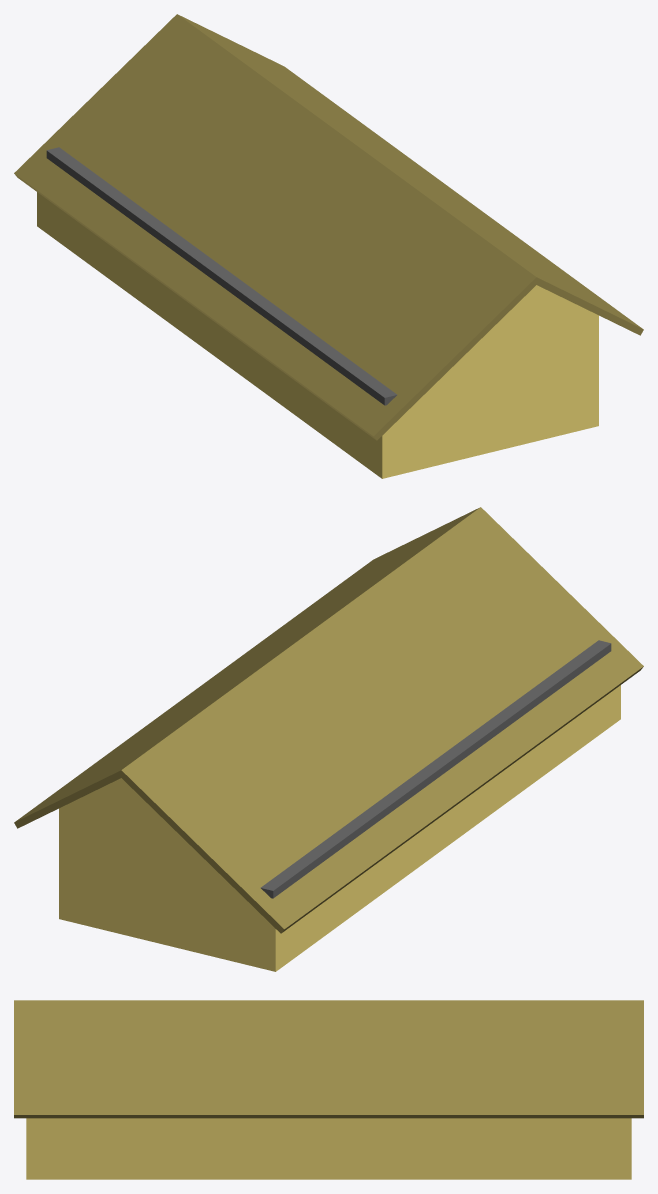
File: result.glb
3 views of the same model, one above another, from view 1: azimuth 30°, elevation 25°; view 2: azimuth 150°, elevation 25°; view 3: azimuth 270°, elevation 25° (orthographic). The views are drawn at different scales.
Parts seen in each view (by area): view 1: c98a8453-ba60-4f9a-aebd-362d2e6b7f4f__undefined (×2), 3eb5561a-a1e6-4eb3-b274-eed3a573eca8__undefined, ccccb688-0b59-463b-a2dd-bae00b7f3d5e__Box; view 2: c98a8453-ba60-4f9a-aebd-362d2e6b7f4f__undefined (×2), 3eb5561a-a1e6-4eb3-b274-eed3a573eca8__undefined, ccccb688-0b59-463b-a2dd-bae00b7f3d5e__Box; view 3: c98a8453-ba60-4f9a-aebd-362d2e6b7f4f__undefined, 3eb5561a-a1e6-4eb3-b274-eed3a573eca8__undefined.
Boxes of the visible parts, x1,y1,x2,y2 form: c98a8453-ba60-4f9a-aebd-362d2e6b7f4f__undefined (×2): [14, 14, 643, 440]; 3eb5561a-a1e6-4eb3-b274-eed3a573eca8__undefined: [37, 192, 598, 478]; ccccb688-0b59-463b-a2dd-bae00b7f3d5e__Box: [46, 147, 397, 405]; c98a8453-ba60-4f9a-aebd-362d2e6b7f4f__undefined (×2): [14, 507, 643, 933]; 3eb5561a-a1e6-4eb3-b274-eed3a573eca8__undefined: [59, 685, 620, 971]; ccccb688-0b59-463b-a2dd-bae00b7f3d5e__Box: [260, 640, 611, 898]; c98a8453-ba60-4f9a-aebd-362d2e6b7f4f__undefined: [14, 1000, 643, 1118]; 3eb5561a-a1e6-4eb3-b274-eed3a573eca8__undefined: [26, 1118, 631, 1179].
Size of the model in its own units: 1104 by 667 by 2541.
